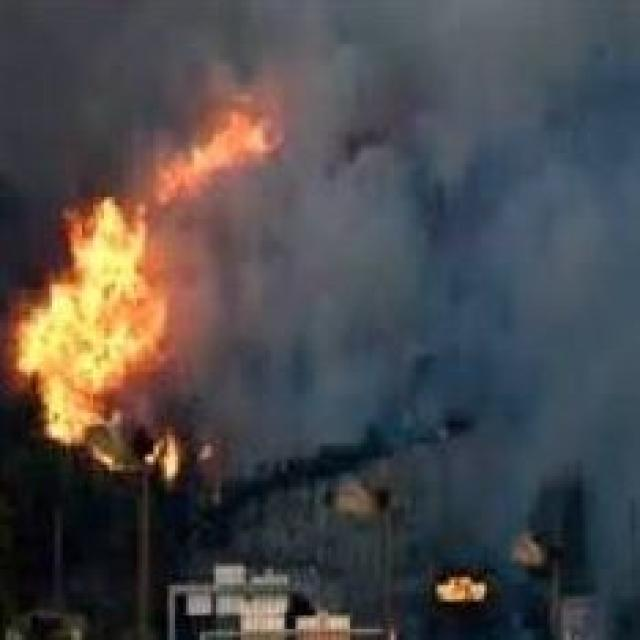Fire: (22, 116, 270, 458)
Smoke: (108, 19, 614, 554)
